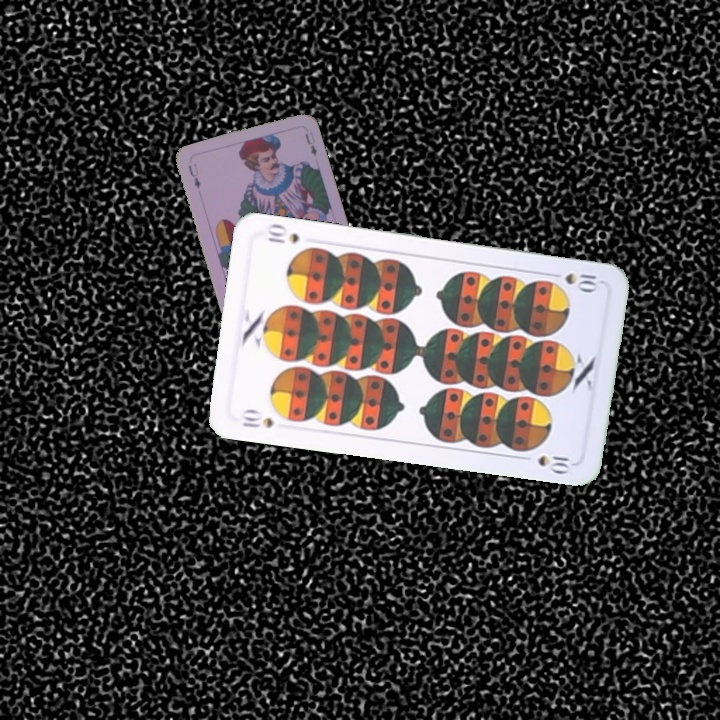EU: (184, 159, 203, 191)
S10: (560, 268, 604, 293), (238, 405, 277, 431)
